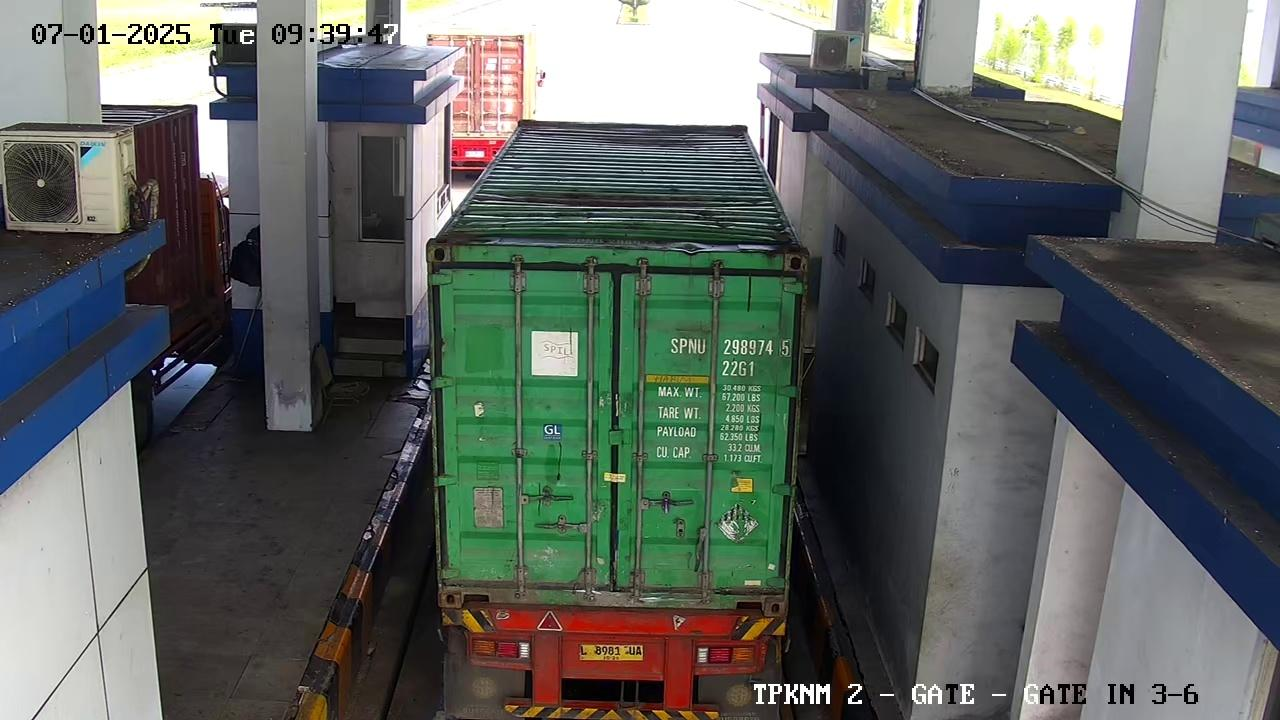Container_ID: (659, 332, 806, 360)
plate_number: (566, 640, 663, 667)
